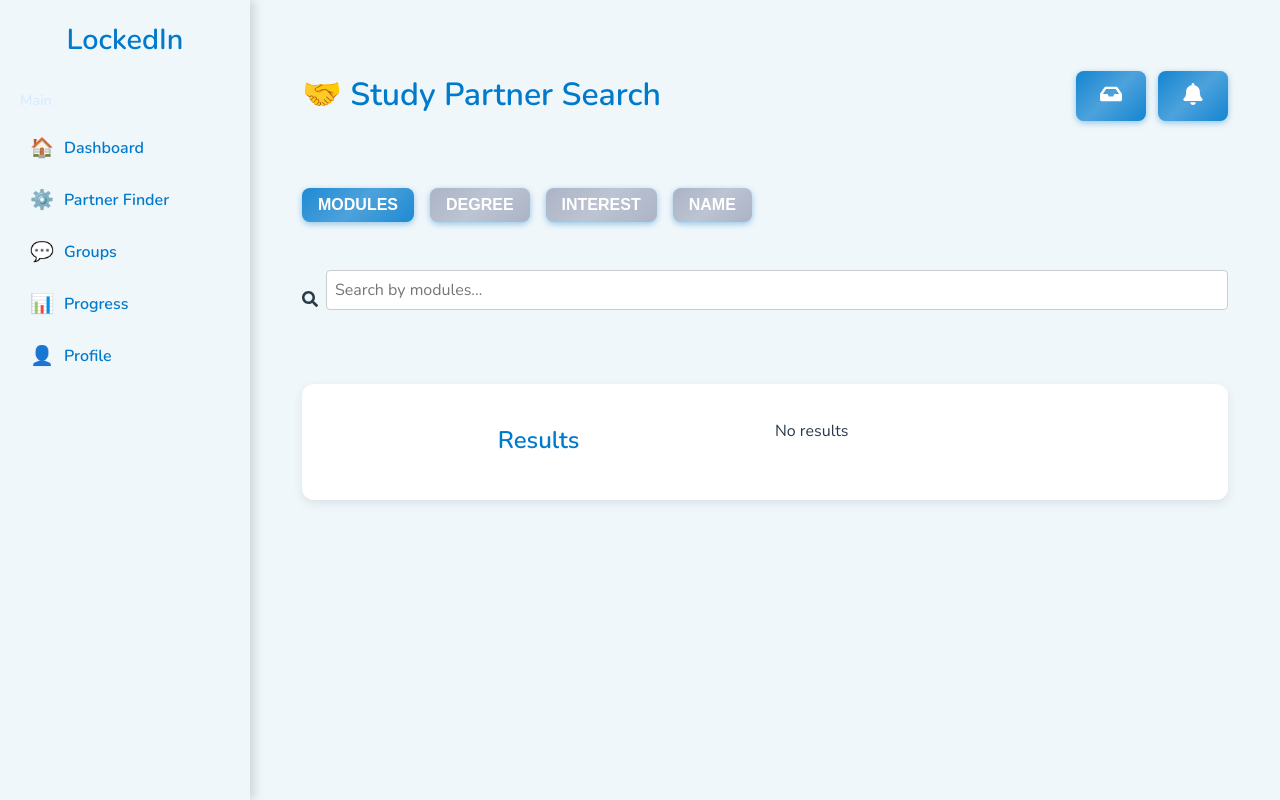
Scenario: SearchPage › sends an invitation when clicking "Invite" on a search result
// Perform a search to get the result
Type "Phys" into the field with placeholder "Search by modules...".
click(777, 290); type("Phys")  # box x1=326 y1=270 x2=1228 y2=310
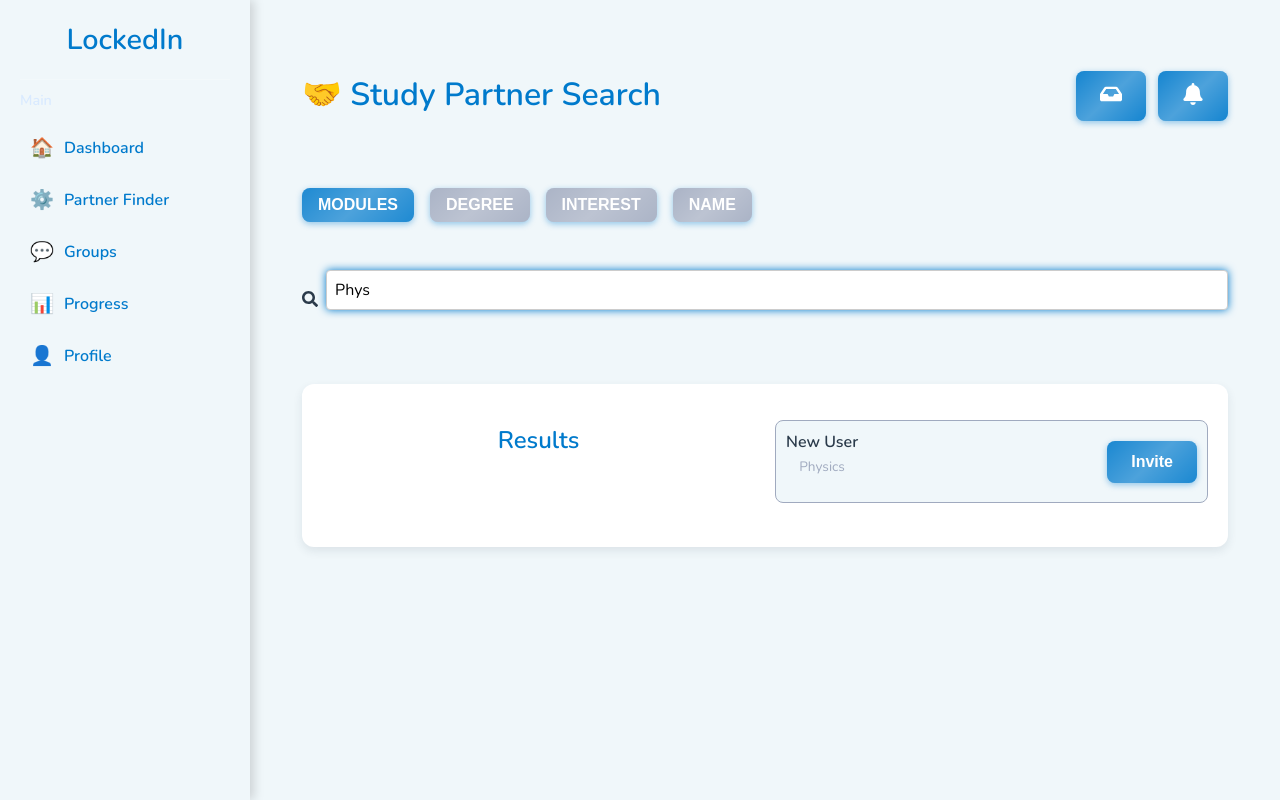
Now the text "New User" is shown, box x1=786 y1=431 x2=858 y2=453
// Click Invite on the search result
Click the button "Invite".
click(1152, 462)  # box x1=1107 y1=441 x2=1197 y2=483
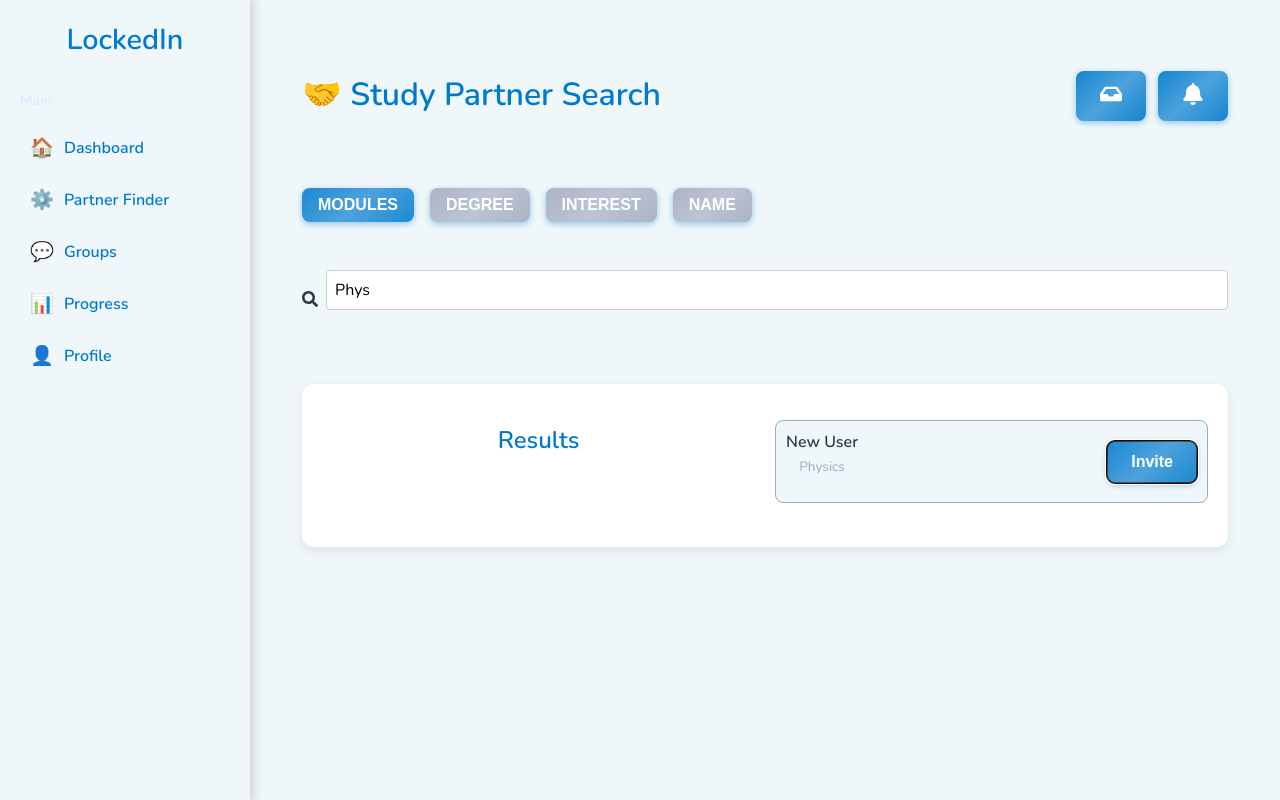
// The sent invitations list should update with the new invite
Click the 1st button.
click(1111, 96)  # box x1=1076 y1=71 x2=1146 y2=121
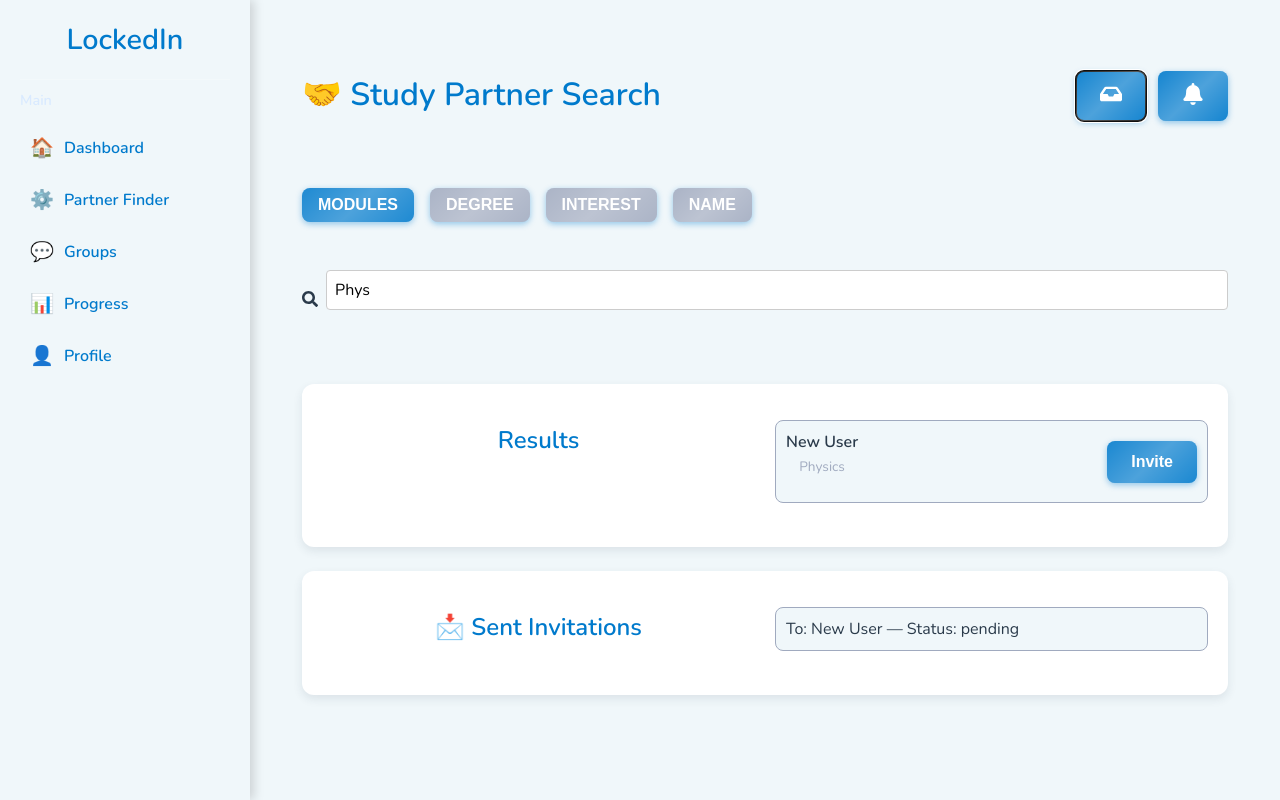
Now the heading "📩 Sent Invitations" is shown, box x1=435 y1=611 x2=642 y2=643
Now the list item "To: New User — Status: pending" is shown, box x1=775 y1=607 x2=1208 y2=651
